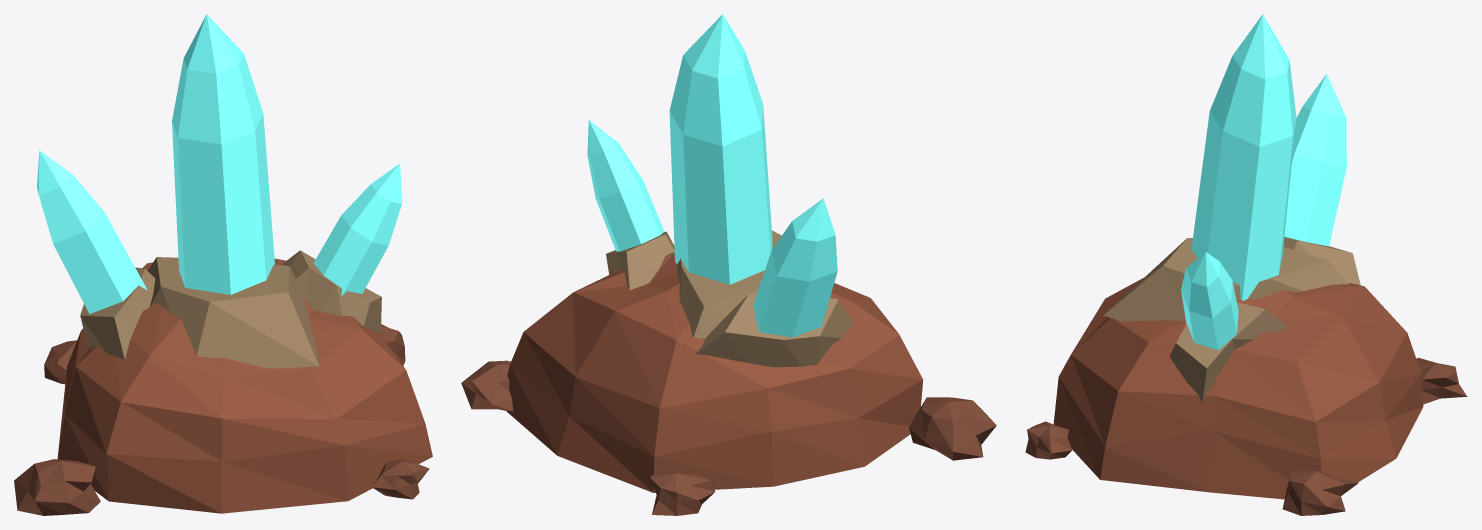
File: crystal-cluster-624138.glb
The picture shows the model from 3 angles, left to right: view 1: azimuth 30°, elevation 25°; view 2: azimuth 150°, elevation 25°; view 3: azimuth 270°, elevation 25°; orthographic projection. The views are drawn at different scales.
Parts seen in each view (by area): view 1: rock, crystals; view 2: rock, crystals; view 3: rock, crystals.
Boxes of the visible parts, bbox=[...] form: rock: bbox=[14, 250, 432, 515]; crystals: bbox=[37, 14, 401, 313]; rock: bbox=[461, 230, 996, 515]; crystals: bbox=[587, 14, 837, 337]; rock: bbox=[1025, 237, 1467, 515]; crystals: bbox=[1181, 14, 1346, 350].
Size of the model in its own units: 0.9176 by 0.8024 by 0.805.
